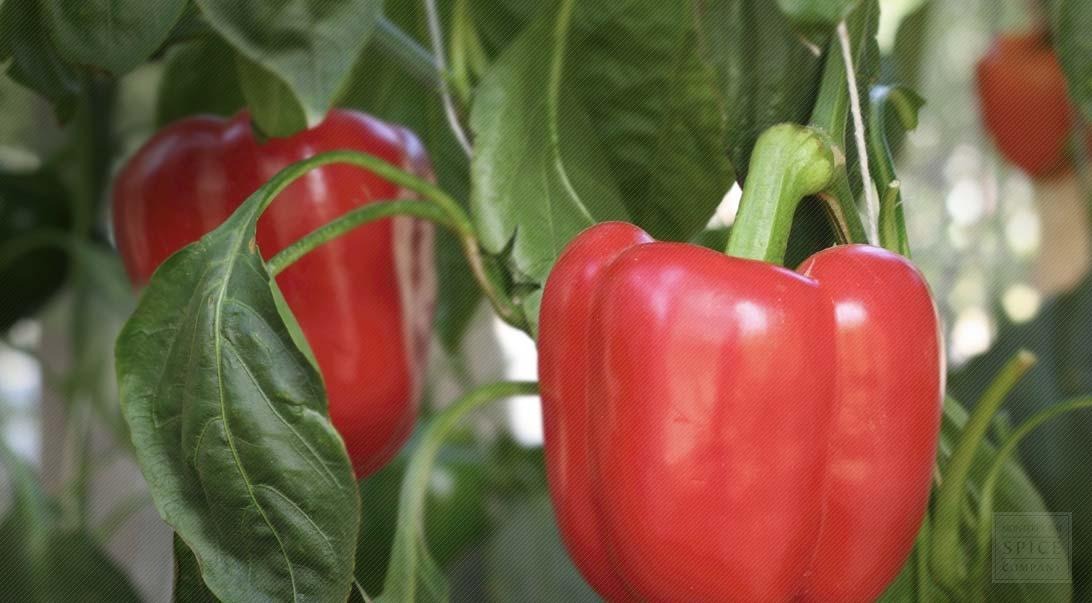paprika: (534, 121, 945, 600), (109, 104, 440, 480), (722, 120, 837, 267)
